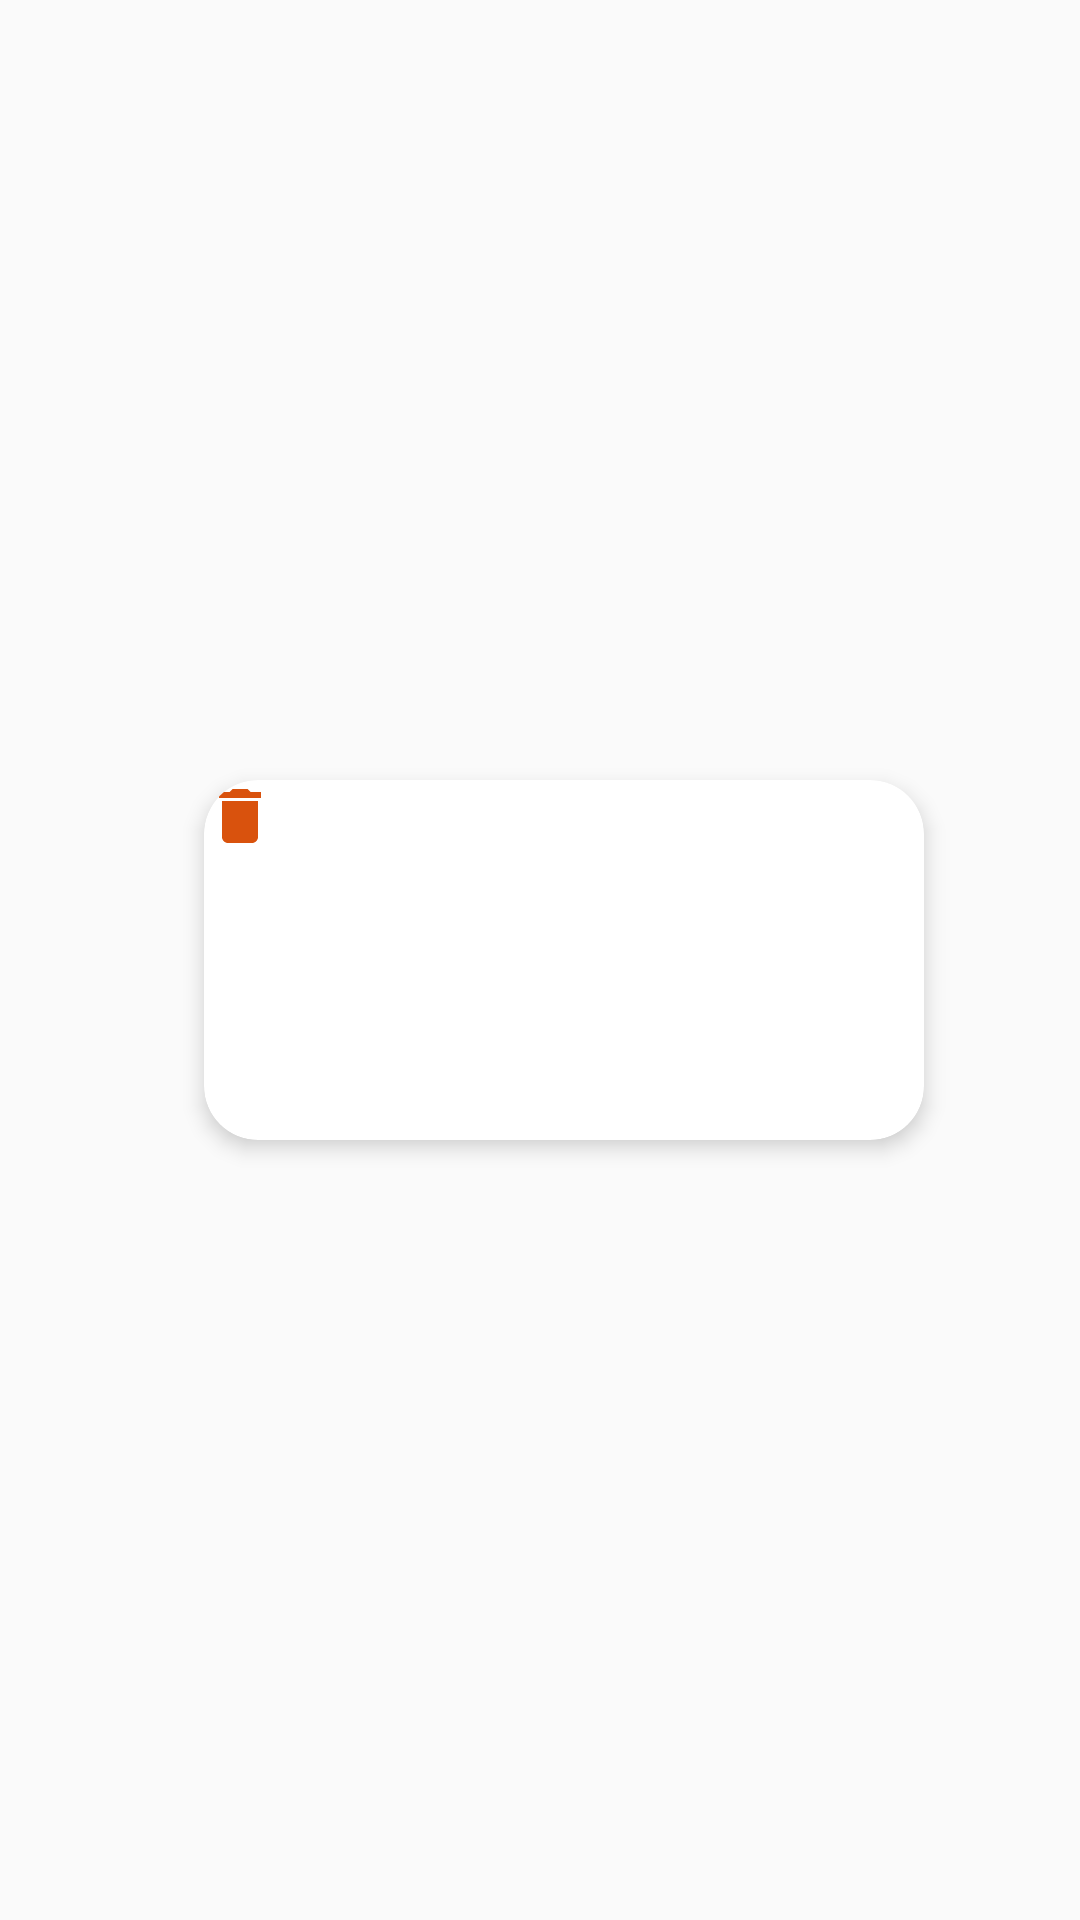

Icon bounding boxes for this 1080px x 1920px phone screenshot, format (x1, y1, x2, y2):
delete: (219, 789, 261, 843)
